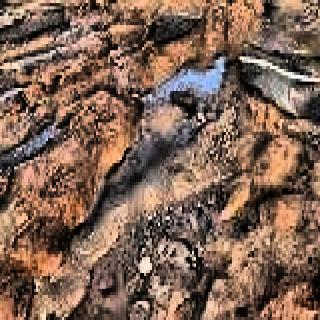pothole: (59, 46, 229, 262), (226, 89, 320, 246), (1, 115, 71, 173), (0, 18, 75, 66)
